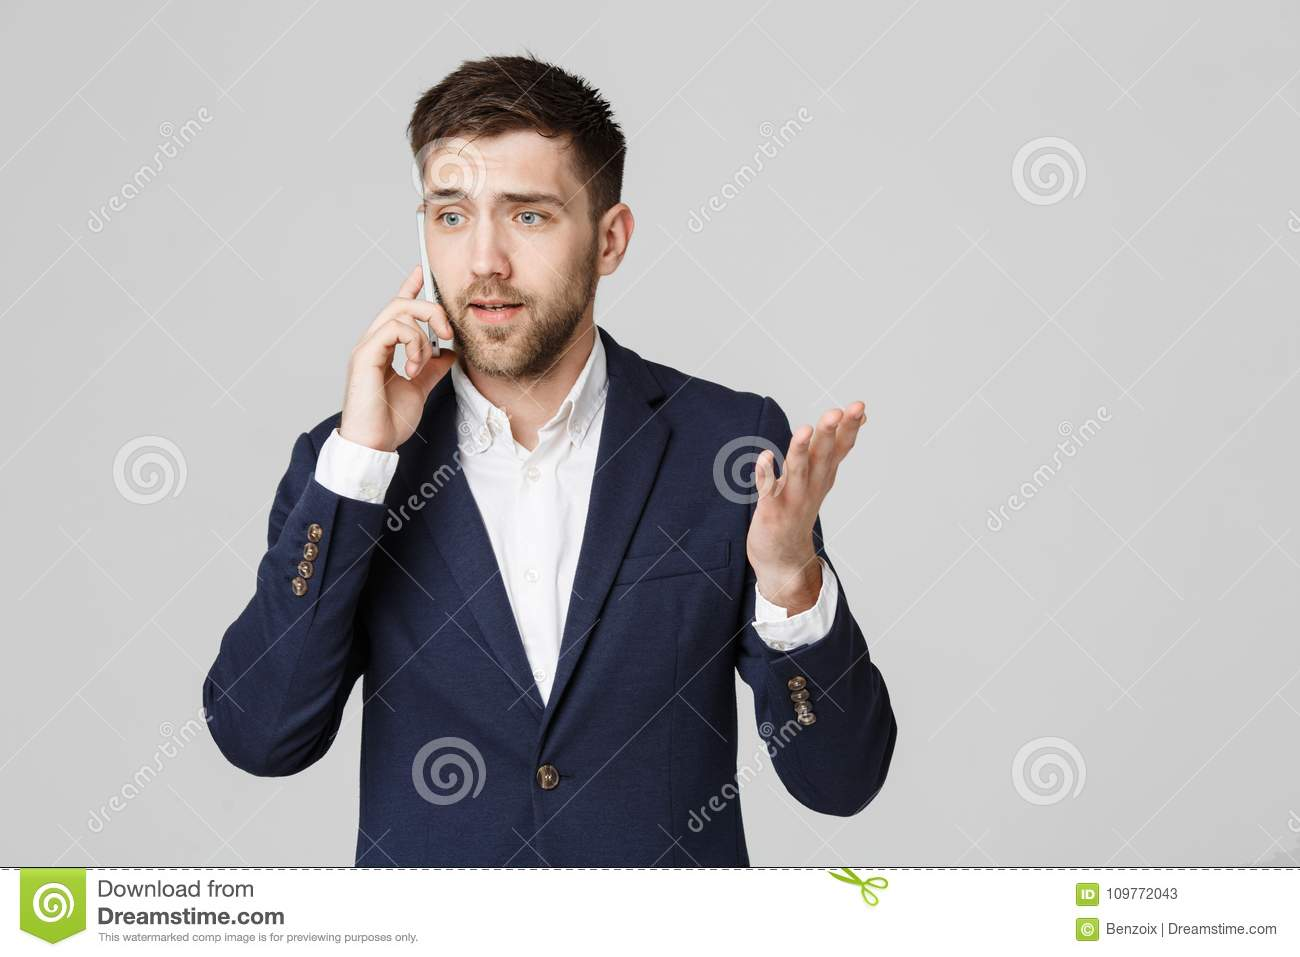phone: (416, 209, 443, 366)
talk: (341, 185, 575, 452)
